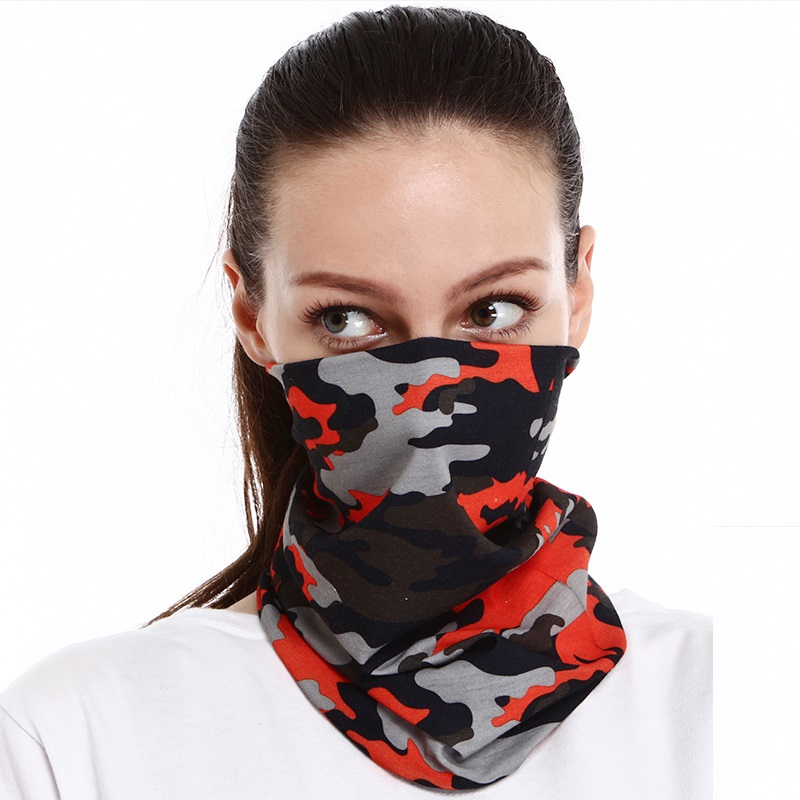face_mask: (271, 134, 564, 547)
